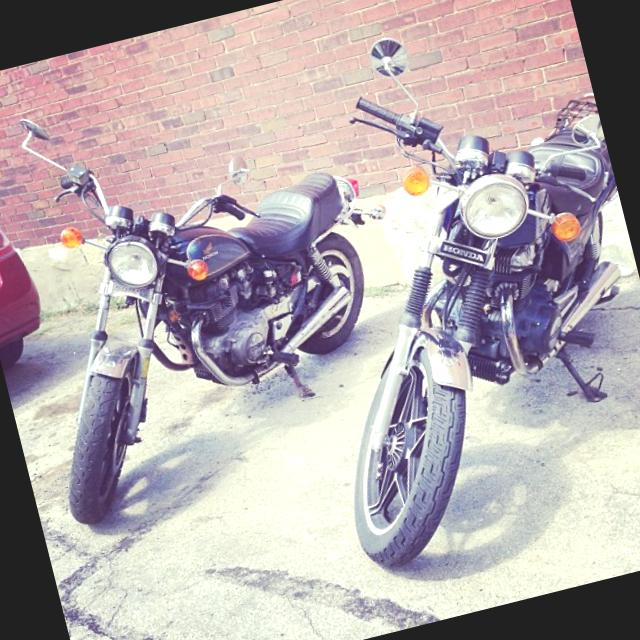Vehicle: (242, 0, 640, 575), (0, 37, 443, 528), (0, 195, 53, 377)
